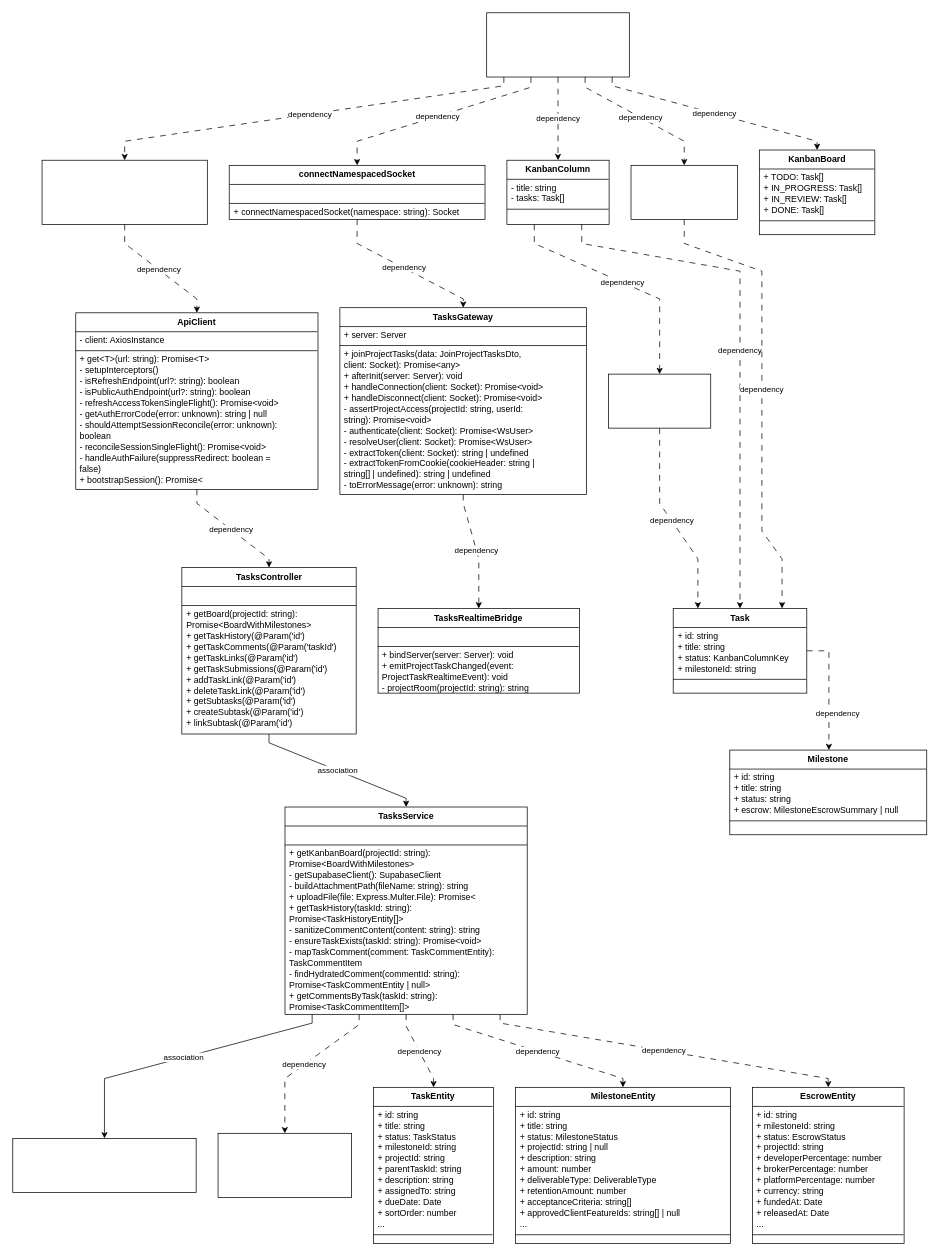
This 940x1256 diagram has some shape labels left out. Each missing label, with the box of its shape:
BoardWithMilestones + tasks: KanbanBoard + milestones: Milestone[]: (217, 1133, 352, 1198)
fetchBoard + fetchBoard(projectId: string): Promise<KanbanBoard>: (41, 160, 207, 224)
ProjectWorkspace - board: KanbanBoard - selectedTask: Task | null: (486, 12, 629, 77)
Repository + find(options: any): Promise<any[]>: (12, 1138, 196, 1192)
TaskCard - task: Task: (608, 373, 711, 428)
TaskDetailModal - task: Task | null: (630, 165, 737, 219)
